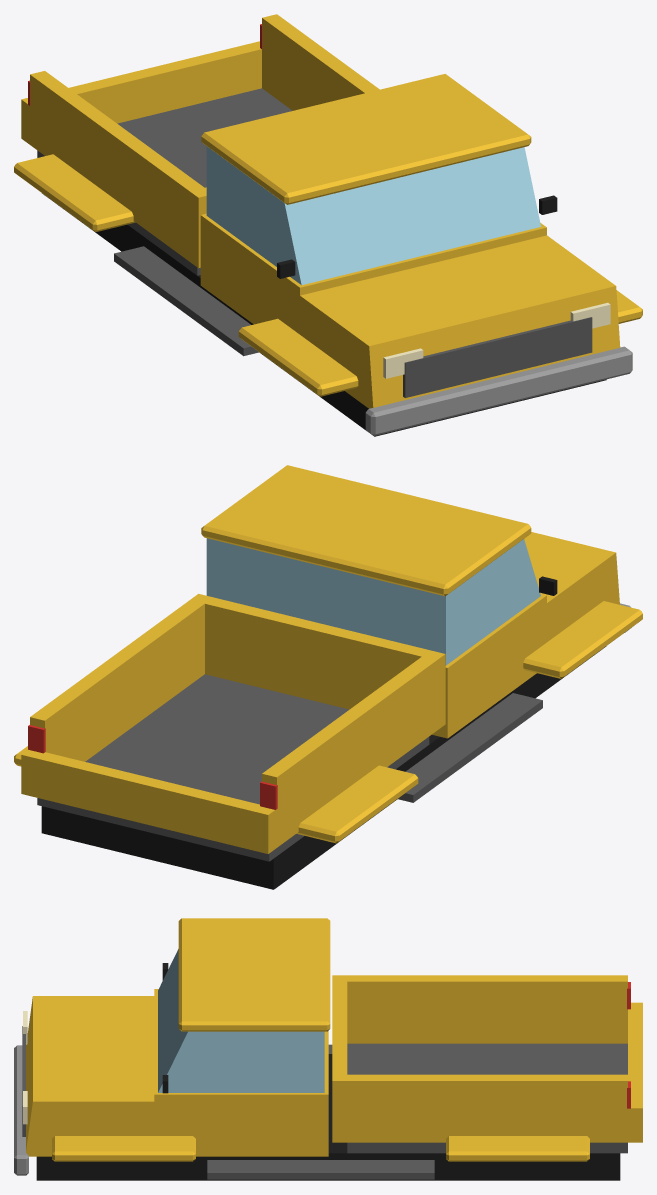
File: TRK_Pickup_Body_Yellow.fbx
3 views of the same model, one above another, from view 1: azimuth 30°, elevation 25°; view 2: azimuth 150°, elevation 25°; view 3: azimuth 270°, elevation 25° (orthographic). The views are drawn at different scales.
Parts seen in each view (by area): view 1: TRK_Pickup_Body_Yellow; view 2: TRK_Pickup_Body_Yellow; view 3: TRK_Pickup_Body_Yellow.
Part boxes in pixels (<box>): TRK_Pickup_Body_Yellow: <box>14,14,642,436</box>; TRK_Pickup_Body_Yellow: <box>14,465,642,889</box>; TRK_Pickup_Body_Yellow: <box>14,918,642,1180</box>.
Bounding box in the file's own units: 8.7 × 4.7 × 16.6.
